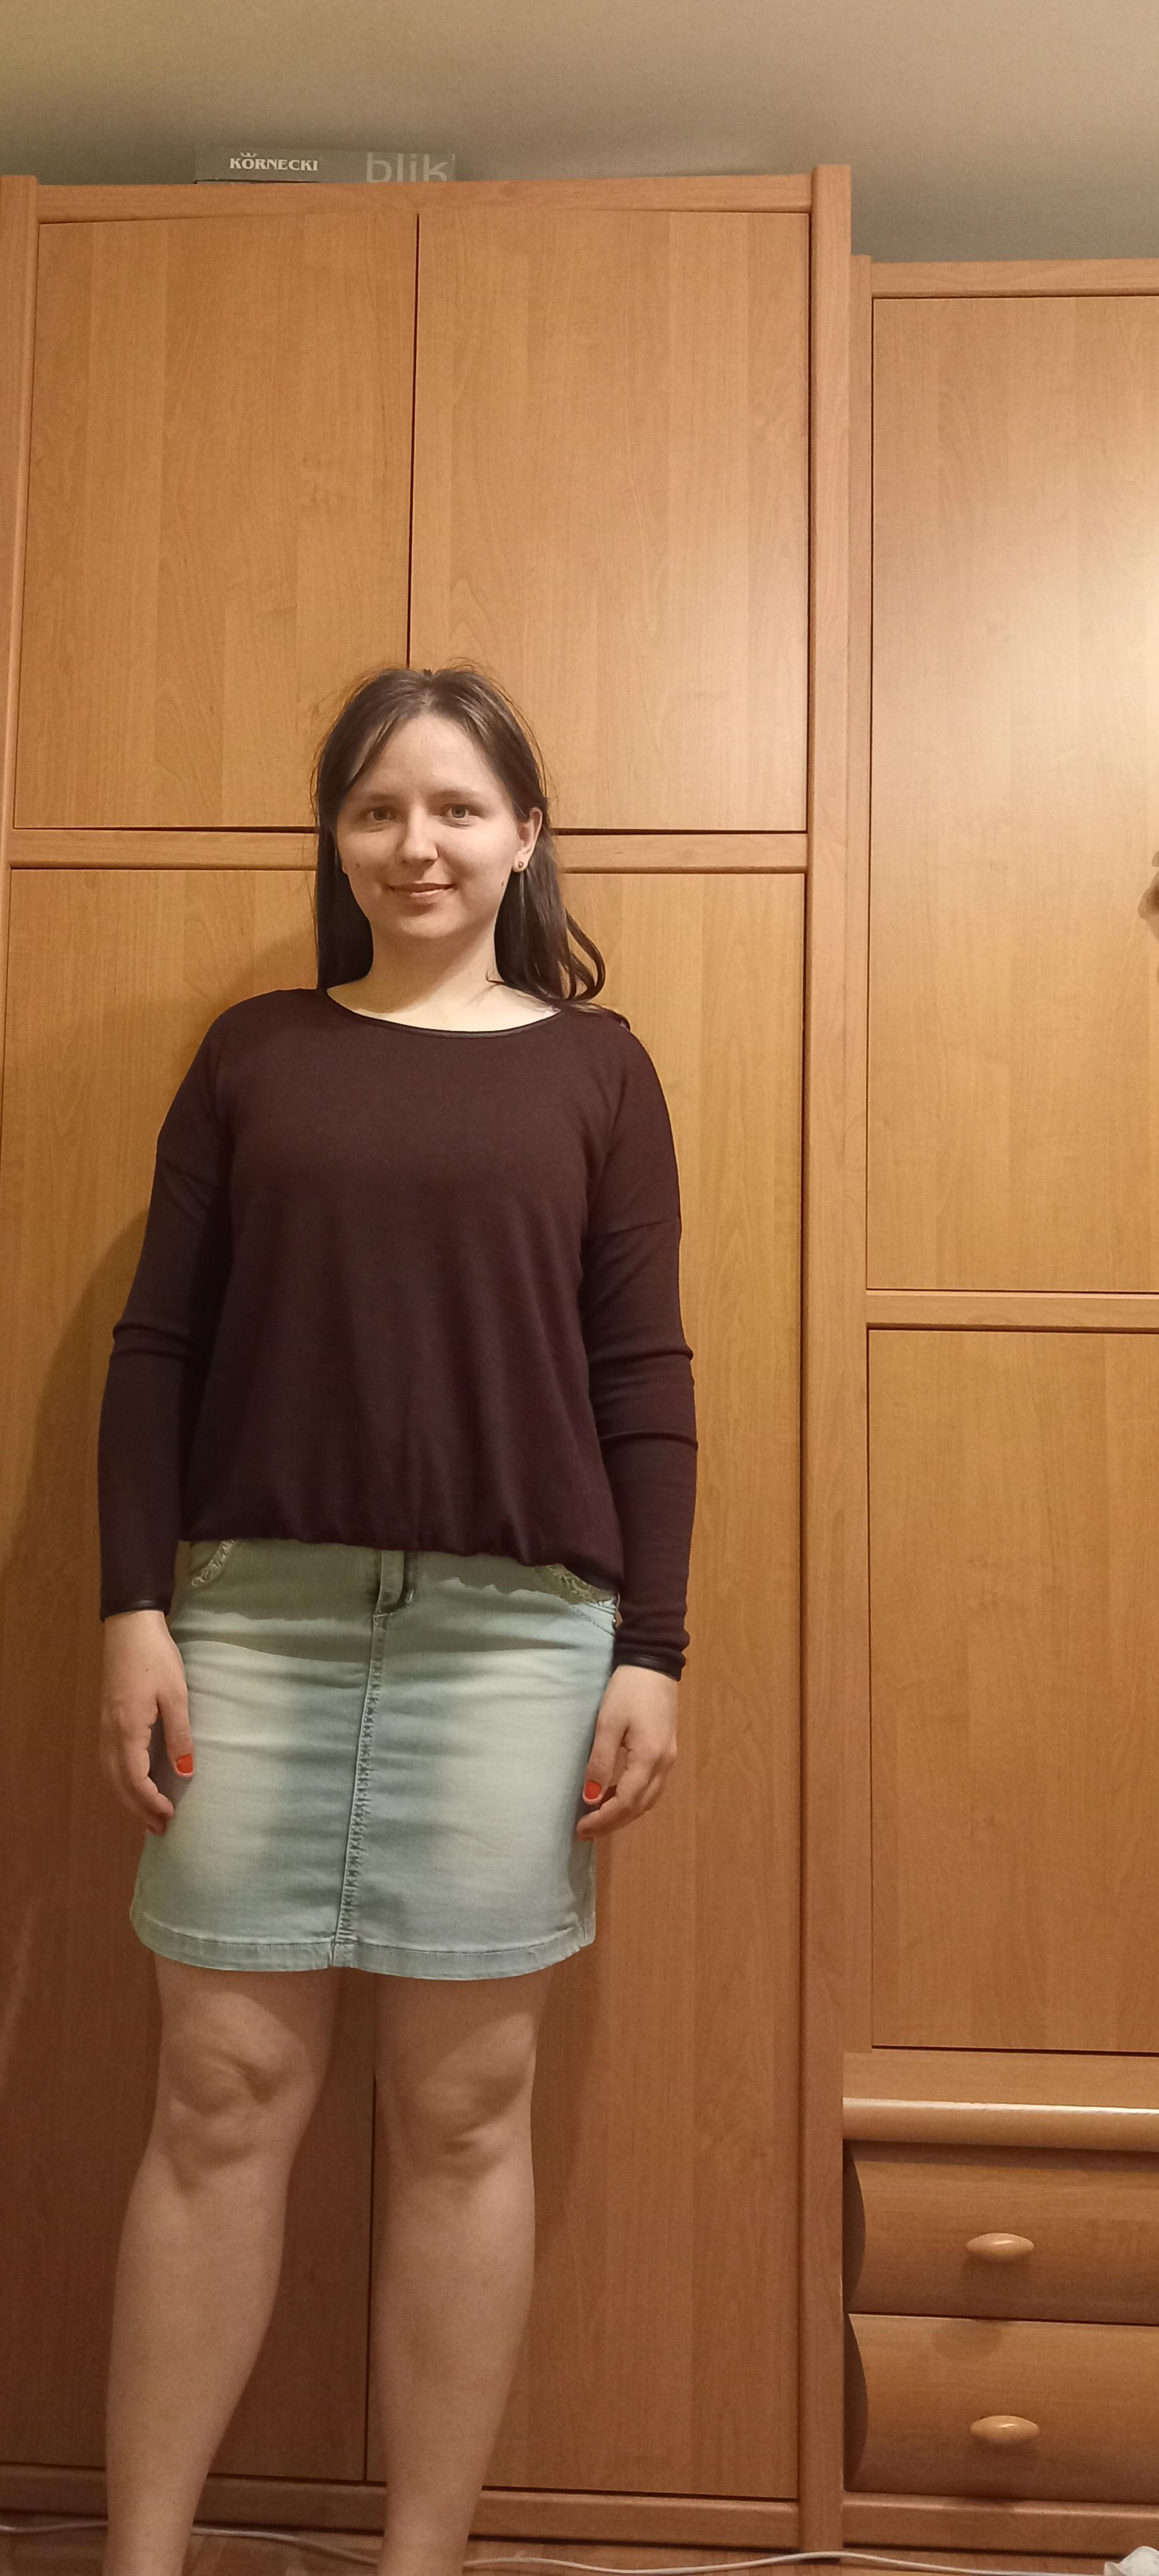Tshirt: (98, 984, 698, 1684)
skirt: (128, 1533, 622, 1981)
